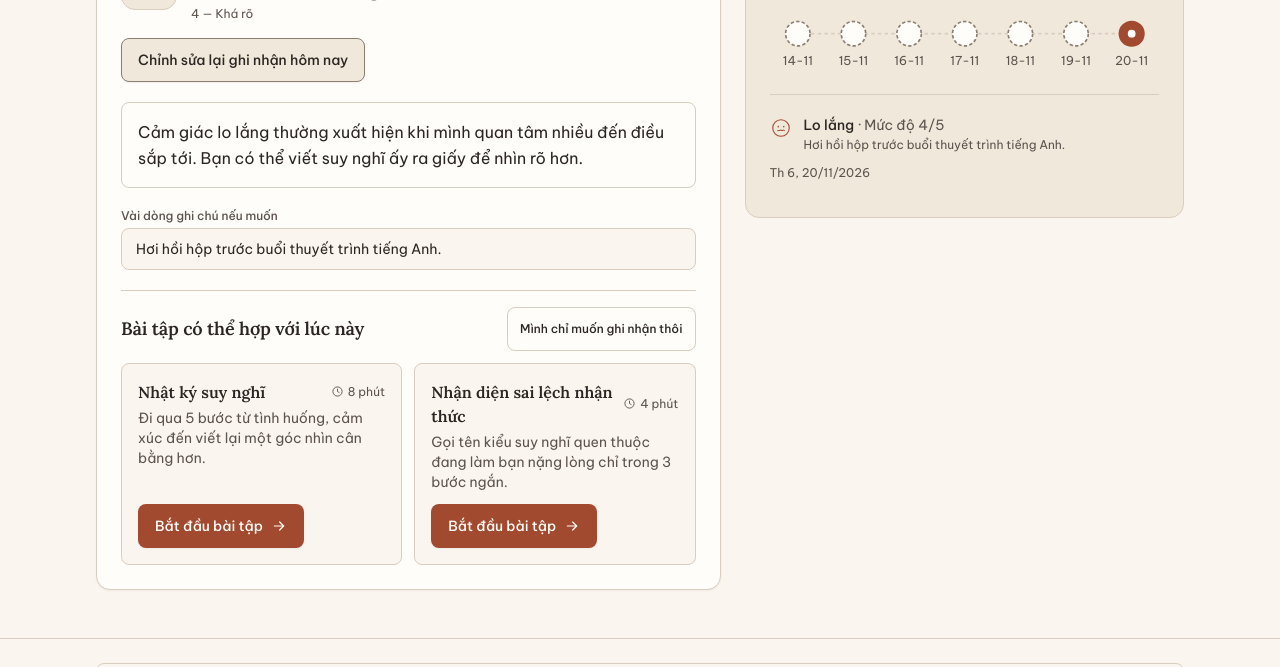
Test: end-to-end UI flows across P0 and P1 pages › completes check-in, Thought Record 5-step flow, journal inspection, and delete all data without blocking modal
Earlier steps of the test are not shown.
Later steps or results of the test are not shown.
(page scrolled)
Expected: the text "Nhật ký suy nghĩ" is shown, top-left (138, 380), bottom-right (265, 404)
Click the link "Bắt đầu bài tập" below "Nhật ký suy nghĩ".
click(221, 526)  # box top-left (138, 504), bottom-right (304, 548)
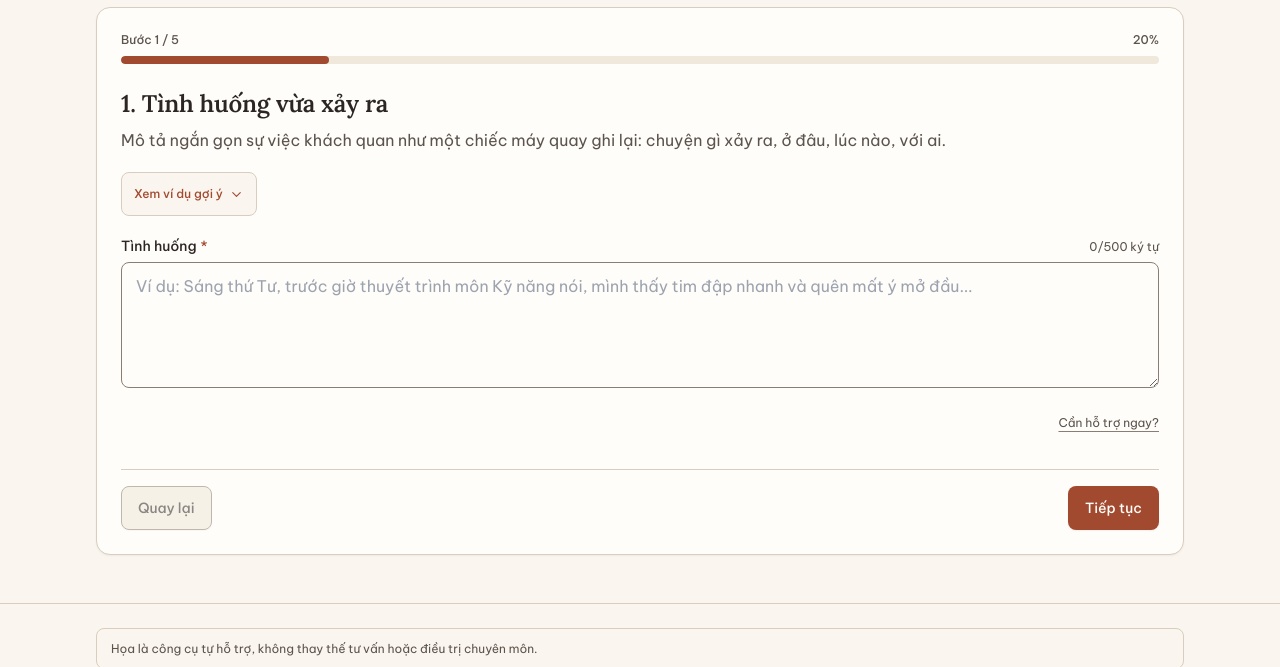
Expected: the heading "1. Tình huống vừa xảy ra" is shown, top-left (121, 88), bottom-right (388, 119)
Click the button "Tiếp tục".
click(1113, 508)  # box top-left (1068, 486), bottom-right (1159, 530)
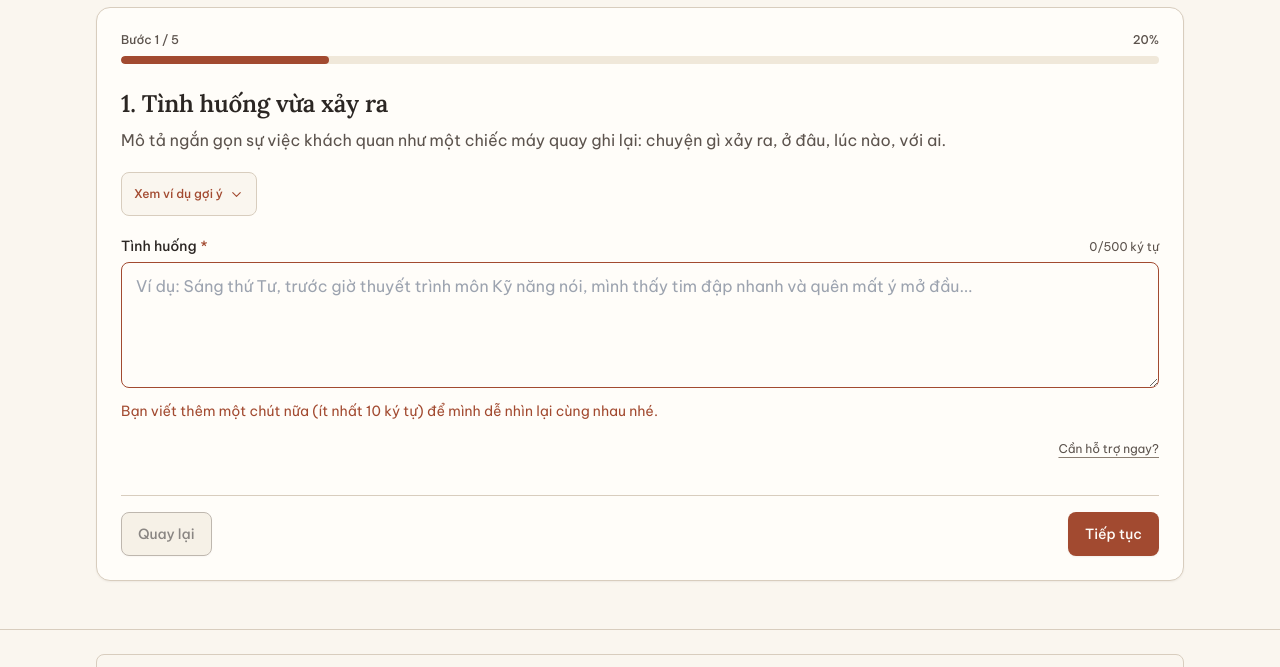
Expected: the text "ít nhất 10 ký tự" is shown, top-left (121, 402), bottom-right (658, 420)
Replace the text in the text box labelled "Tình huống*" with "Sáng thứ Tư ở lớp kỹ năng nói tiếng Anh trước giờ thuyết trình." at [640, 325], box top-left (121, 262), bottom-right (1159, 388)
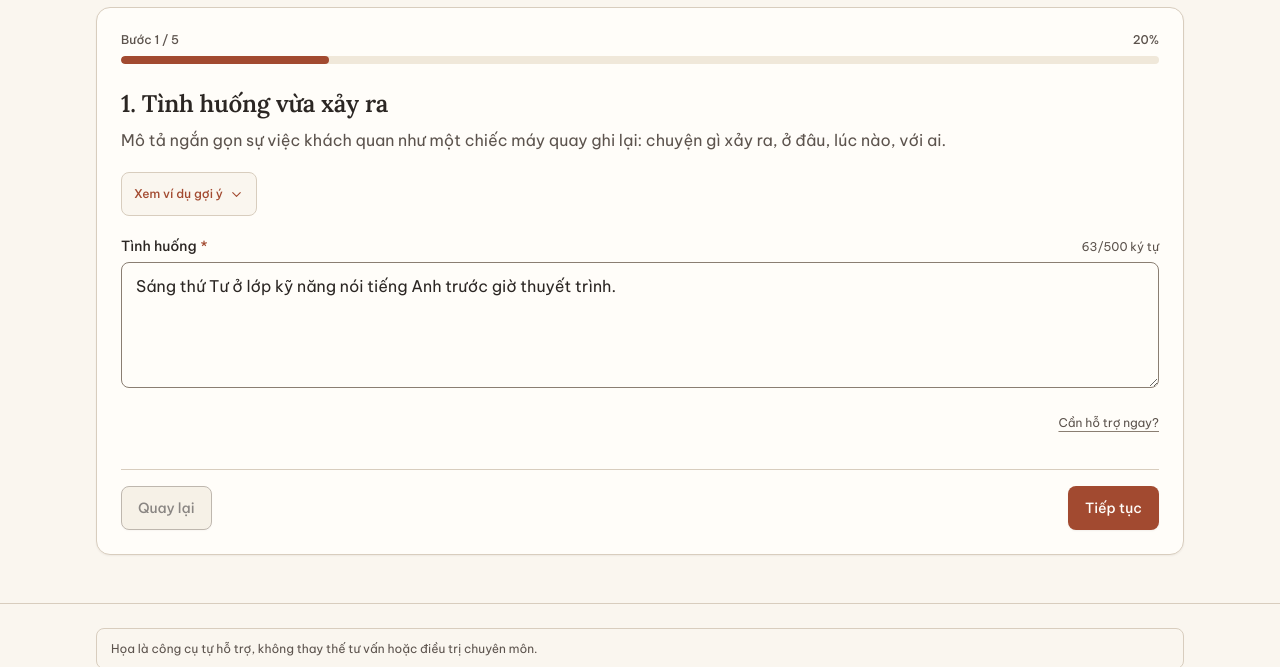
Click the button "Tiếp tục".
click(1113, 508)  # box top-left (1068, 486), bottom-right (1159, 530)
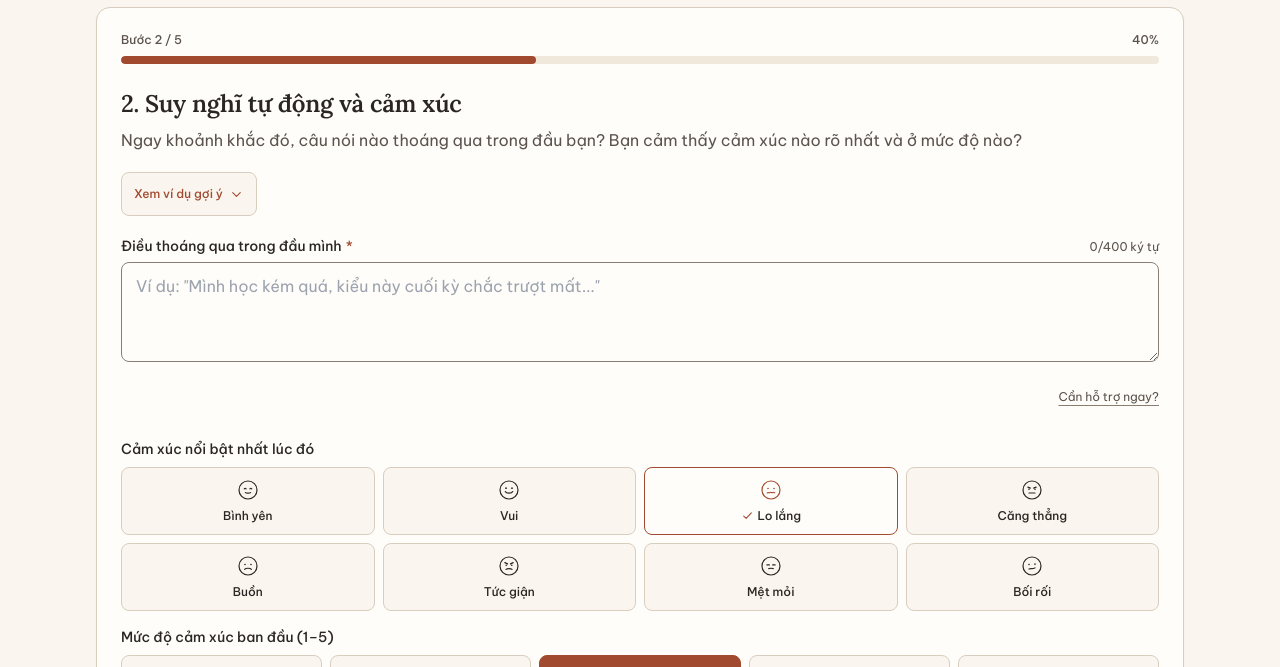
Expected: the heading "2. Suy nghĩ tự động và cảm xúc" is shown, top-left (121, 88), bottom-right (462, 119)
Replace the text in the text box labelled "Điều thoáng qua trong đầu mình*" with "Mình chắc chắn sẽ quên hết từ vựng và làm hỏng bài nói." at [640, 312], box top-left (121, 262), bottom-right (1159, 362)
(page scrolled)
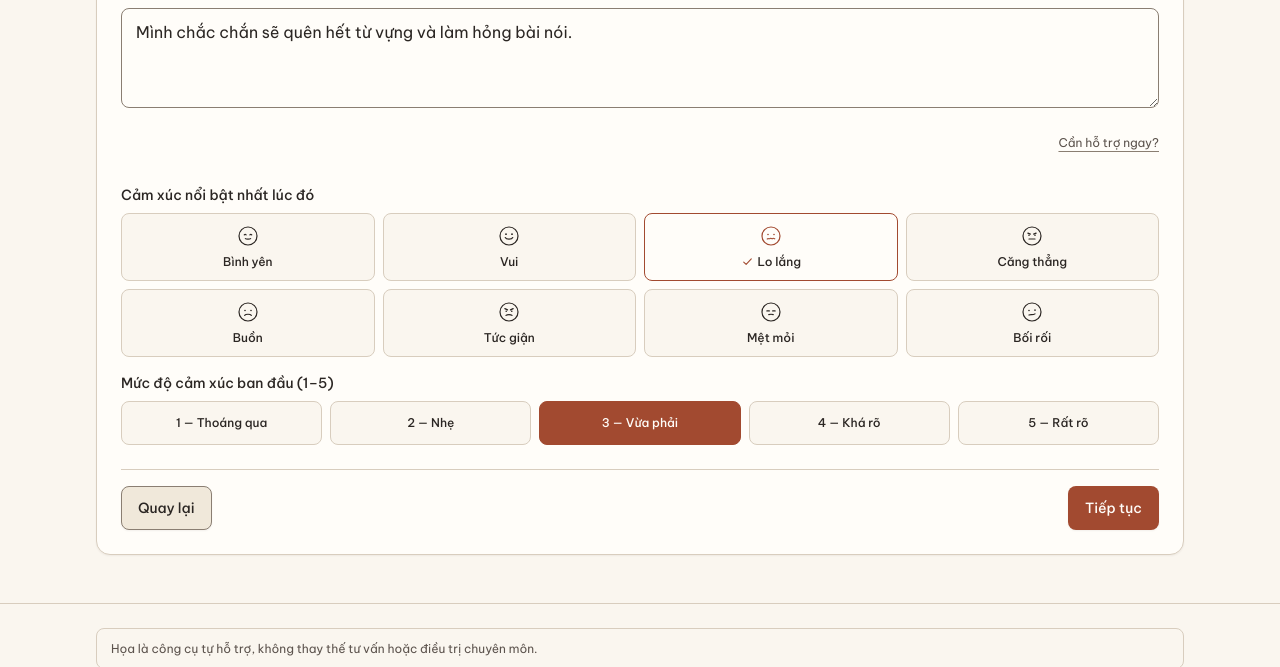
Click the button "Tiếp tục".
click(1113, 508)  # box top-left (1068, 486), bottom-right (1159, 530)
(page scrolled)
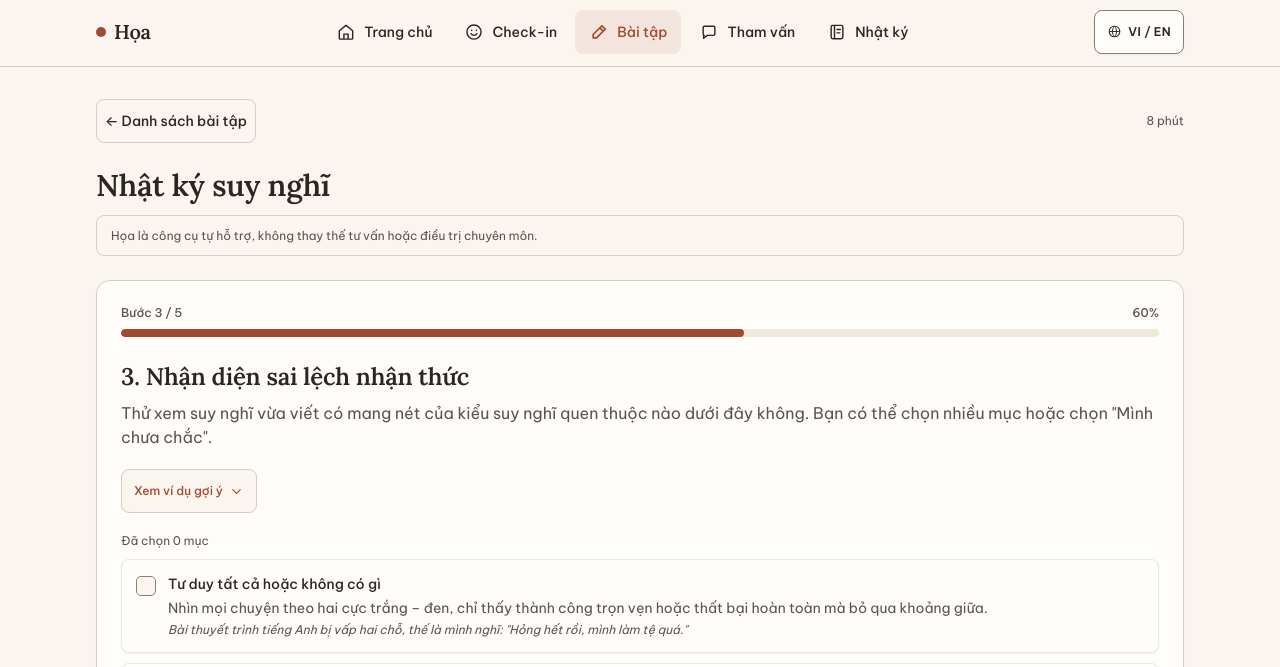
Expected: the heading "3. Nhận diện sai lệch nhận thức" is shown, top-left (121, 361), bottom-right (469, 392)
